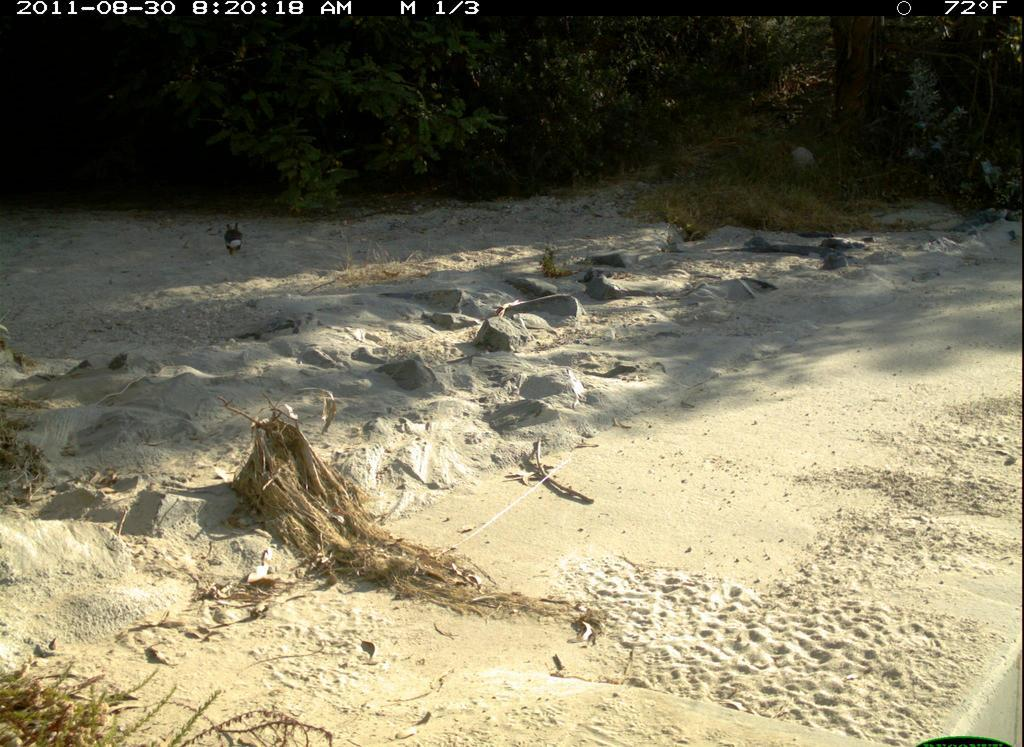rabbit: (216, 219, 258, 257)
